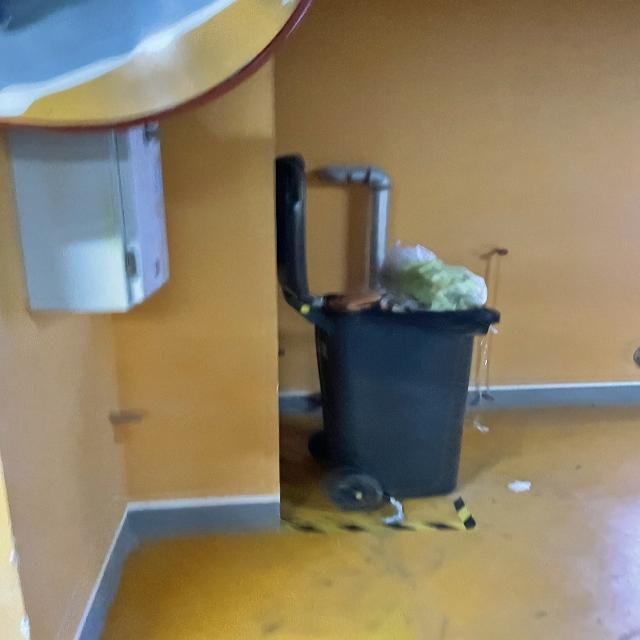overflow: (311, 239, 500, 499)
